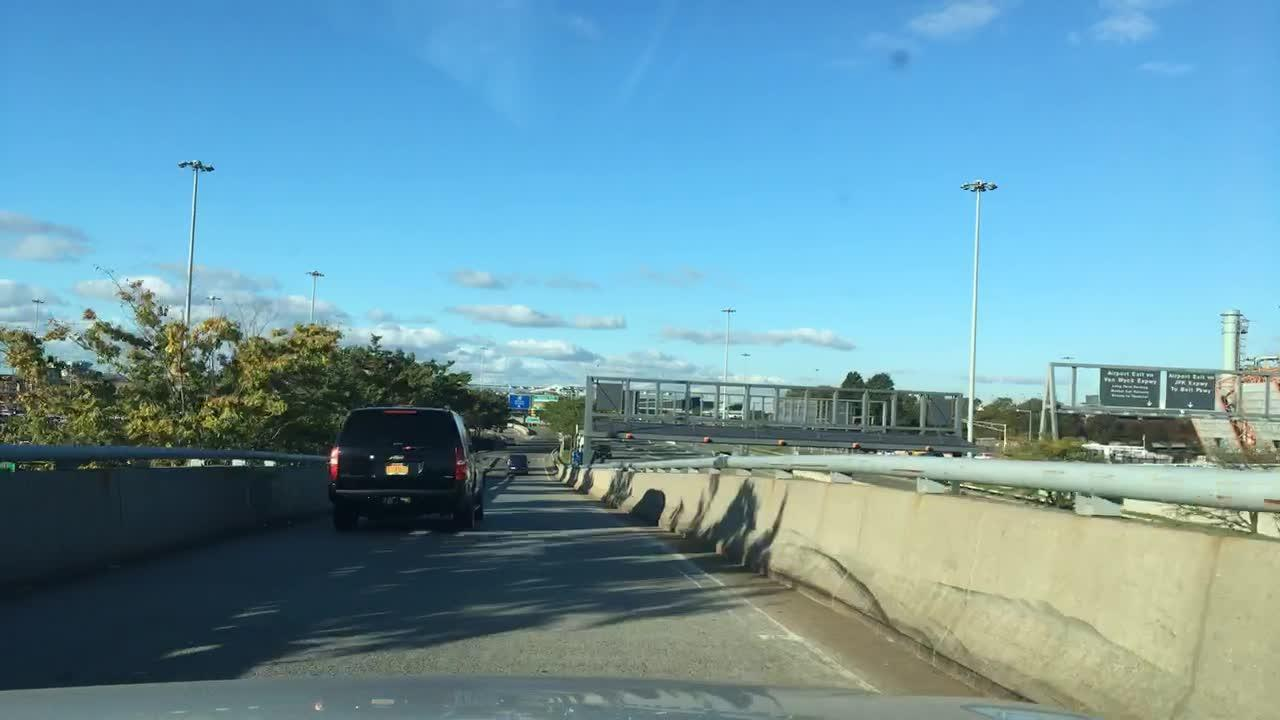chevrolet: (386, 451, 407, 464)
